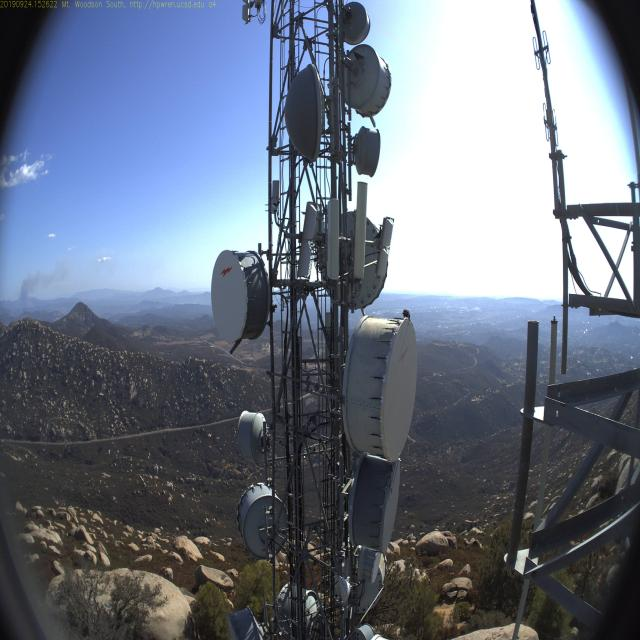smoke: (16, 267, 62, 309)
